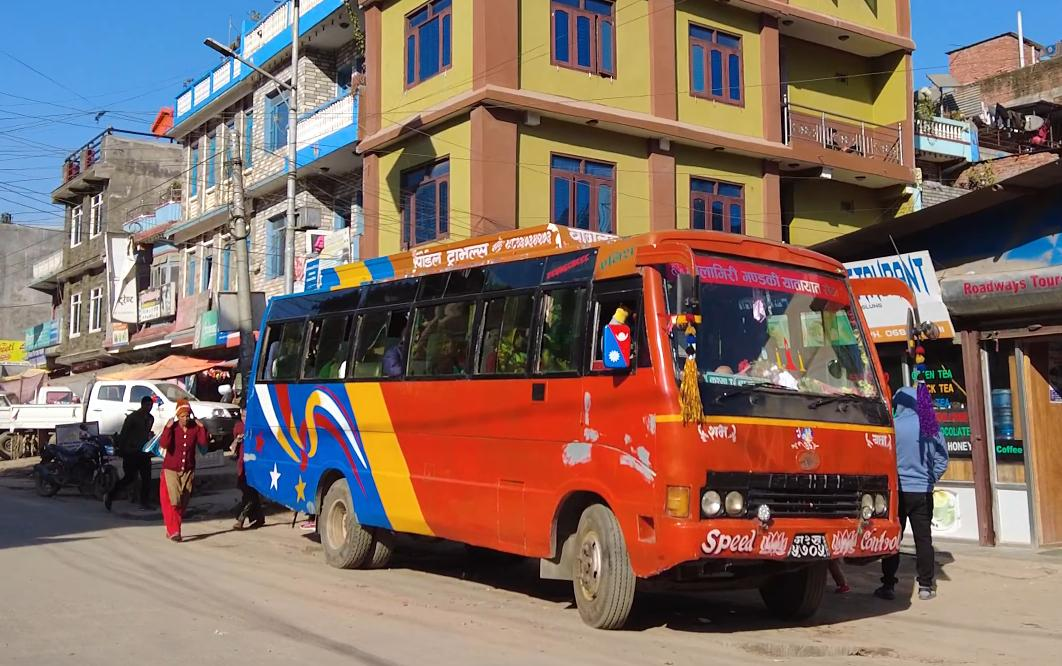bus: (237, 218, 923, 623)
